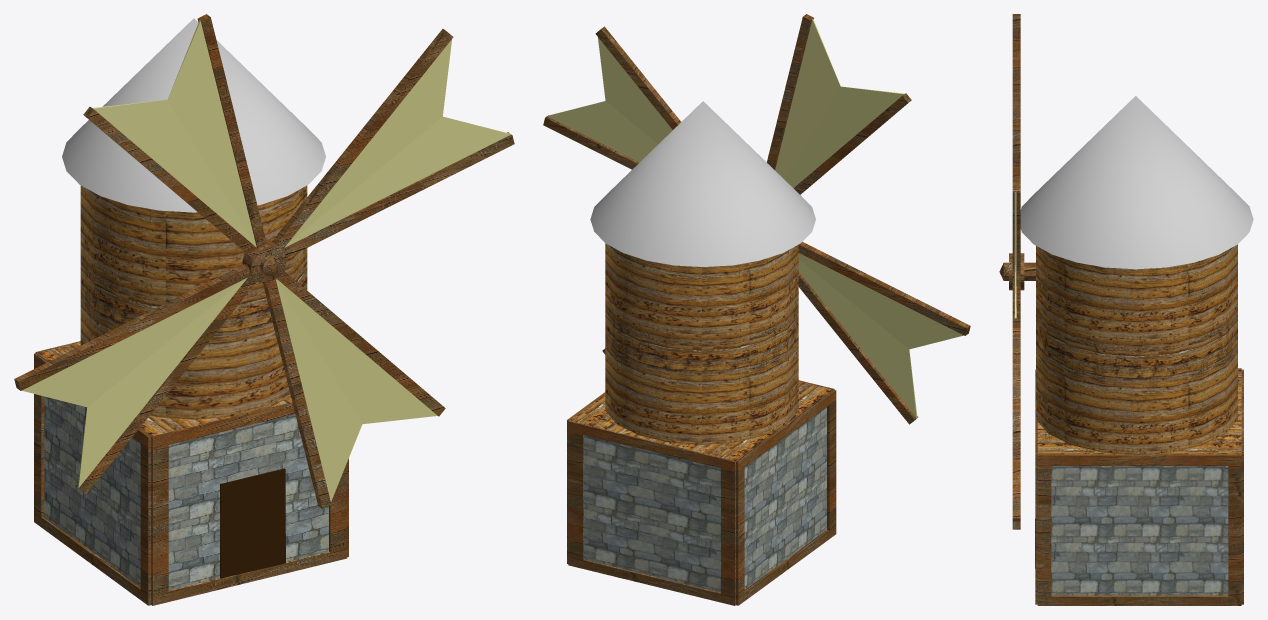
The model's file is Moulin2.FBX.
3 views of the same model, side by side, from view 1: azimuth 30°, elevation 25°; view 2: azimuth 150°, elevation 25°; view 3: azimuth 270°, elevation 25° (orthographic). The views are drawn at different scales.
Visible parts, largest first — view 1: Bas moulin; view 2: Bas moulin; view 3: Bas moulin.
Part boxes in pixels (bbox=[...]): Bas moulin: bbox=[14, 14, 514, 605]; Bas moulin: bbox=[543, 14, 970, 605]; Bas moulin: bbox=[999, 14, 1253, 605].
Bounding box in the file's own units: 603 × 681 × 300.
